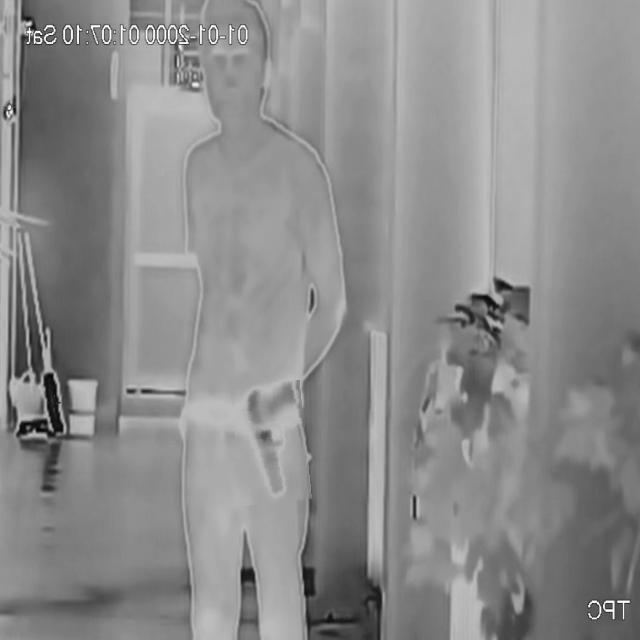Weapon: (232, 382, 308, 504)
